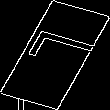L_E: (14, 31, 96, 79)
